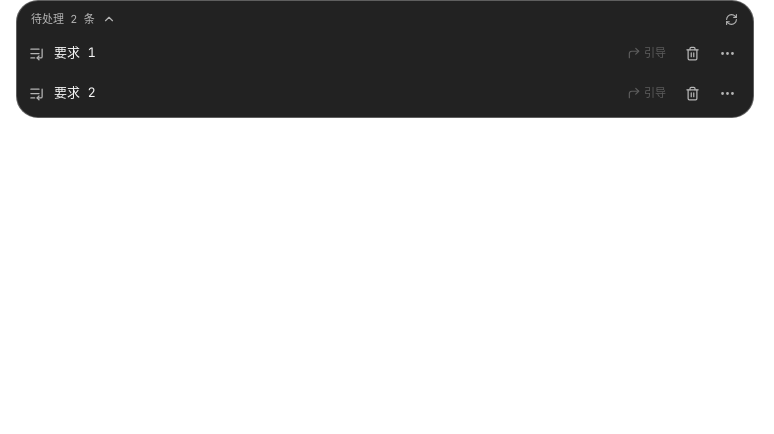
Scenario: does not turn an absent receipt into rejection or silently retry a newer draft
Expected: the text "待处理 2 条" is shown, [31, 11, 95, 27]
Click the button named "消息 1 的更多操作" at coordinates (727, 53), box [713, 39, 741, 67]
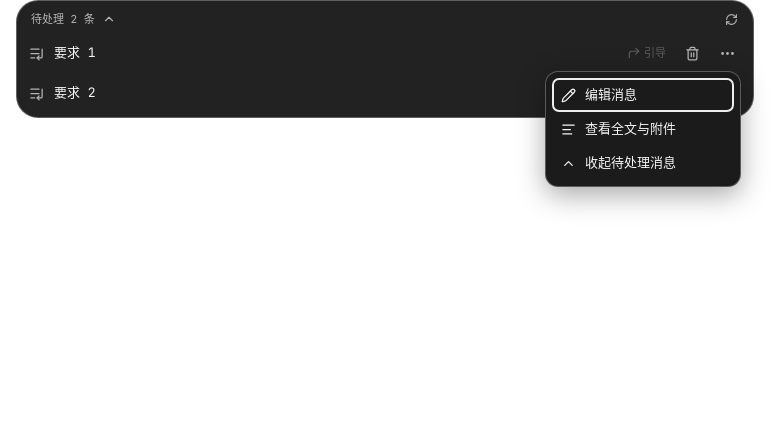
Click the menu item "编辑消息" at coordinates (643, 95), box [552, 78, 734, 112]
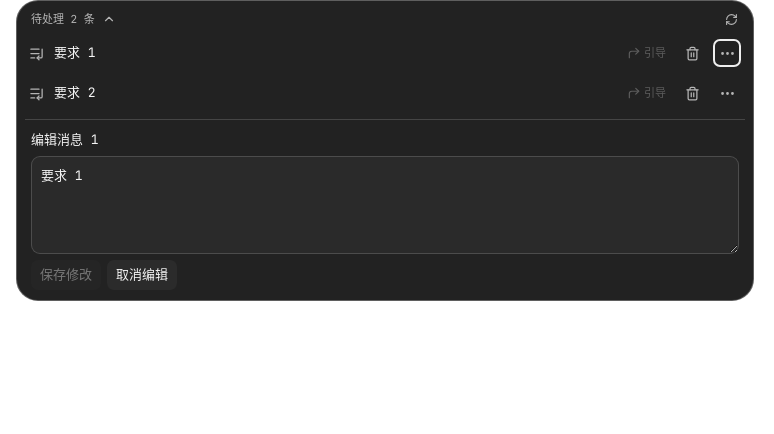
Replace the text in the text box labelled "编辑消息 1" with "原保存" at coordinates (385, 204), box [31, 156, 739, 254]
Click the button "保存修改" at coordinates (66, 274), box [31, 260, 101, 290]
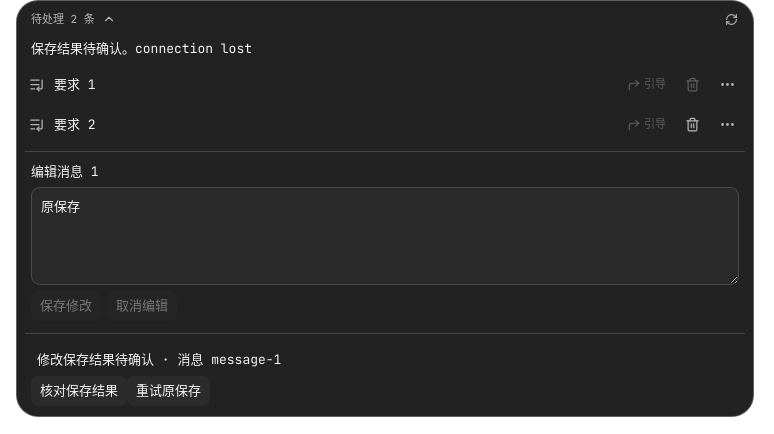
Expected: the text "保存结果待确认。connection lost" is shown, [31, 40, 252, 57]
Type "以及后来输入" into the text box labelled "编辑消息 1" at coordinates (385, 236), box [31, 187, 739, 285]
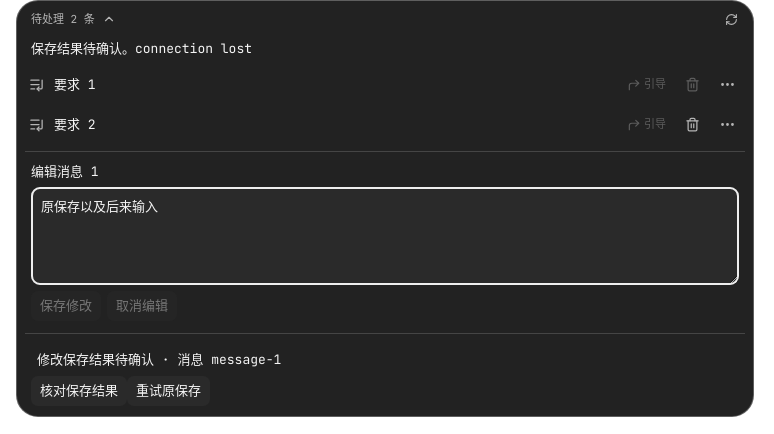
Click the button "核对保存结果" at coordinates (79, 390), box [31, 376, 127, 406]
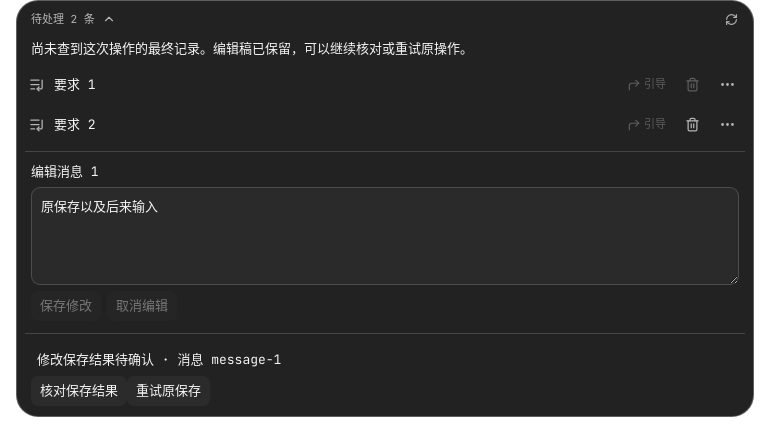
Expected: the button "保存修改" is disabled, [31, 291, 101, 321]
Expected: the text "尚未查到这次操作的最终记录。编辑稿已保留，可以继续核对或重试原操作。" is shown, [31, 40, 473, 57]
Click the button "重试原保存" at coordinates (168, 390), box [127, 376, 210, 406]
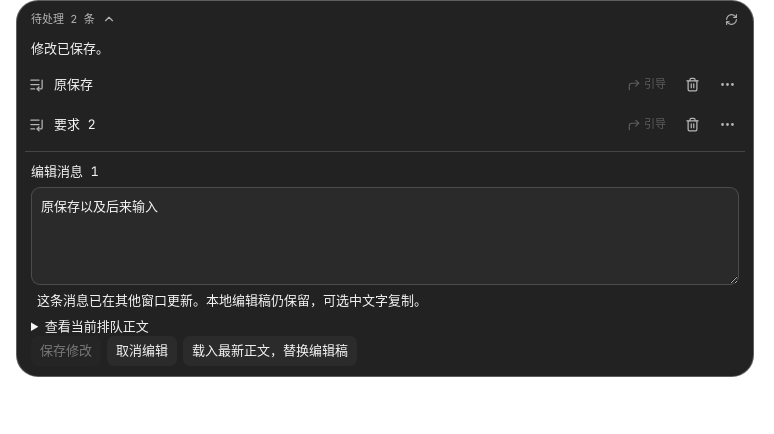
Expected: the text box labelled "编辑消息 1" holds "原保存以及后来输入", [31, 187, 739, 285]
Expected: the text "修改已保存。" is shown, [31, 40, 109, 57]
